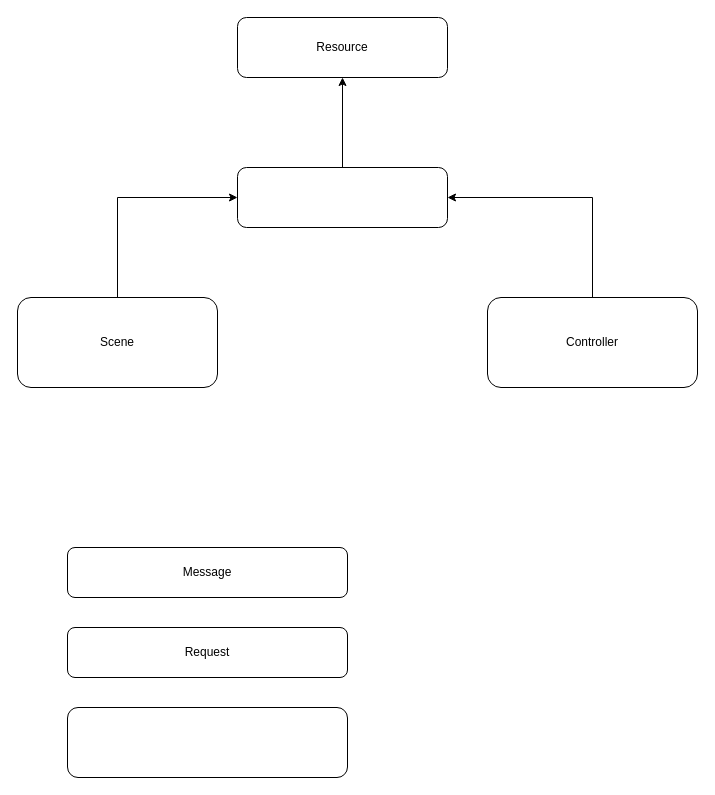
This 715x795 diagram has some shape labels left out. Here are the shapes that lost their labels. From the top down, the centre of each, then its label:
At point 342,197: "Model".
At point 207,742: "Command".
